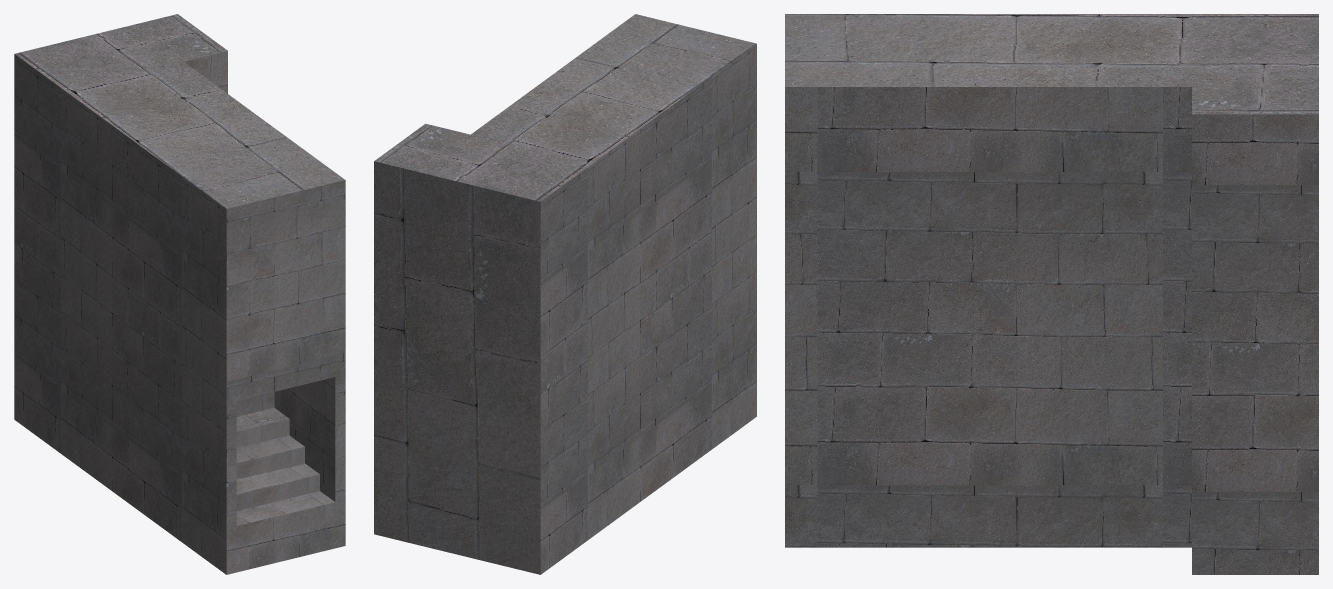
File: StairsUp.glb
3 renders of one model, left to right at view 1: azimuth 30°, elevation 25°; view 2: azimuth 150°, elevation 25°; view 3: azimuth 270°, elevation 25°, orthographic. The views are drawn at different scales.
Visible parts, largest first — view 1: Cube; view 2: Cube; view 3: Cube.
Boxes of the visible parts, <box> form: Cube: <box>14,14,345,574</box>; Cube: <box>374,14,756,574</box>; Cube: <box>785,14,1318,574</box>.
Size of the model in its own units: 2.74 by 5.88 by 6.17.
Materials: 1 (1 with a texture image).
